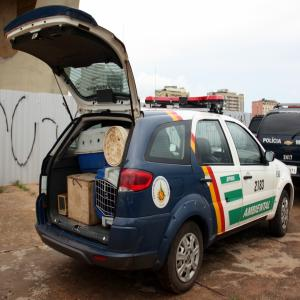Vehicle-registration-plate: (287, 165, 299, 176)
